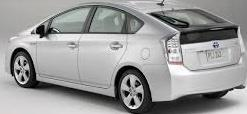Cars: (6, 4, 246, 114)
